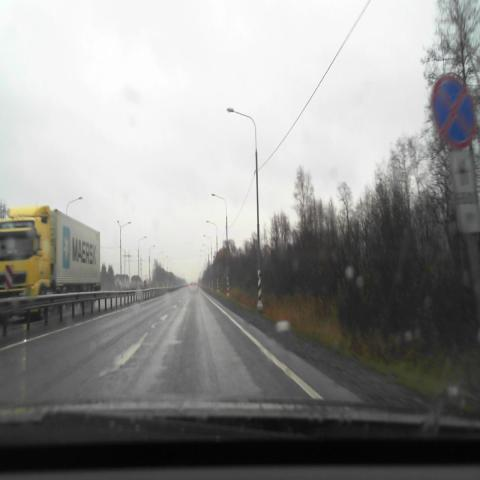3_27: (432, 76, 476, 149)
8_2_2: (452, 151, 480, 232)
